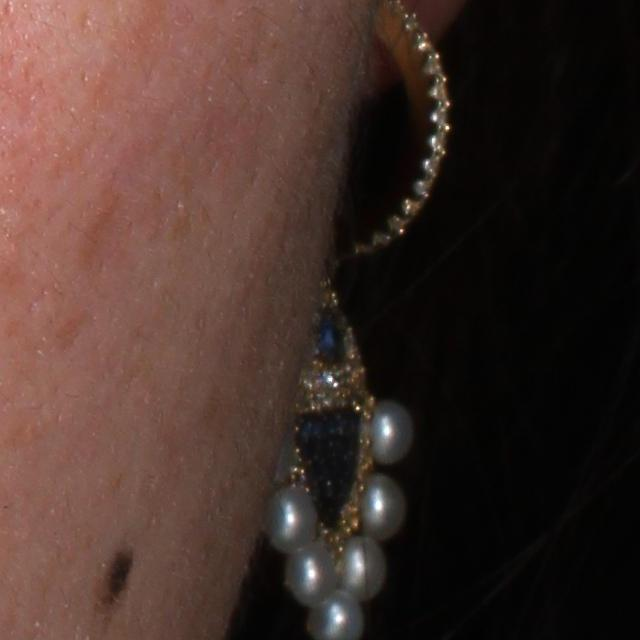nevus: (103, 543, 135, 606)
